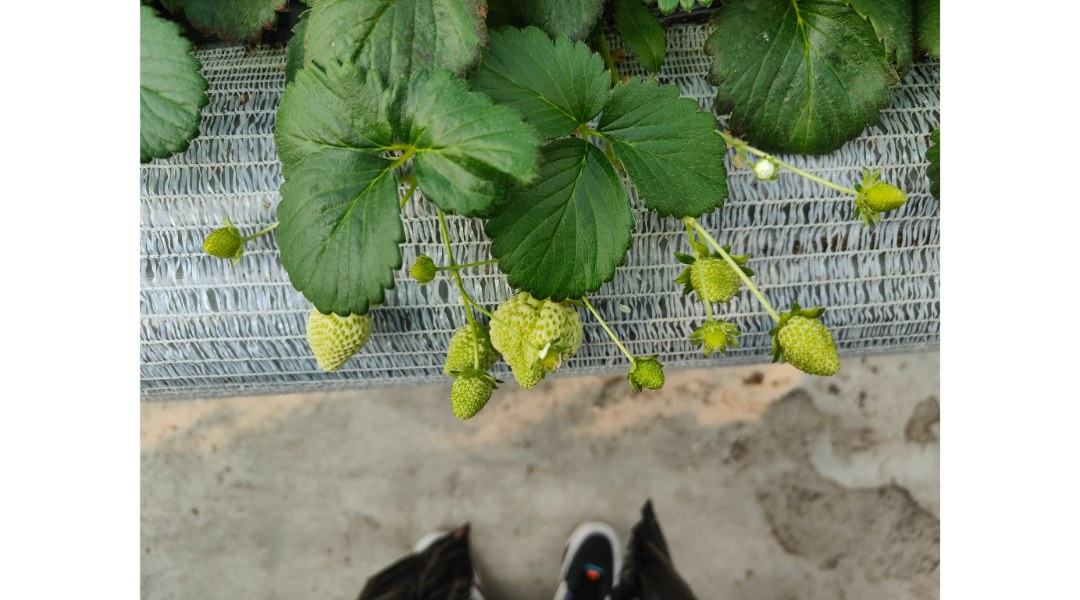berry: (491, 284, 585, 383), (292, 281, 387, 373), (771, 303, 846, 383), (673, 242, 750, 307), (846, 168, 919, 225), (451, 363, 499, 446), (194, 211, 250, 270), (445, 311, 491, 381), (627, 345, 670, 395)
strain: (716, 123, 866, 200), (687, 221, 780, 317), (433, 207, 470, 294), (592, 302, 641, 363)
